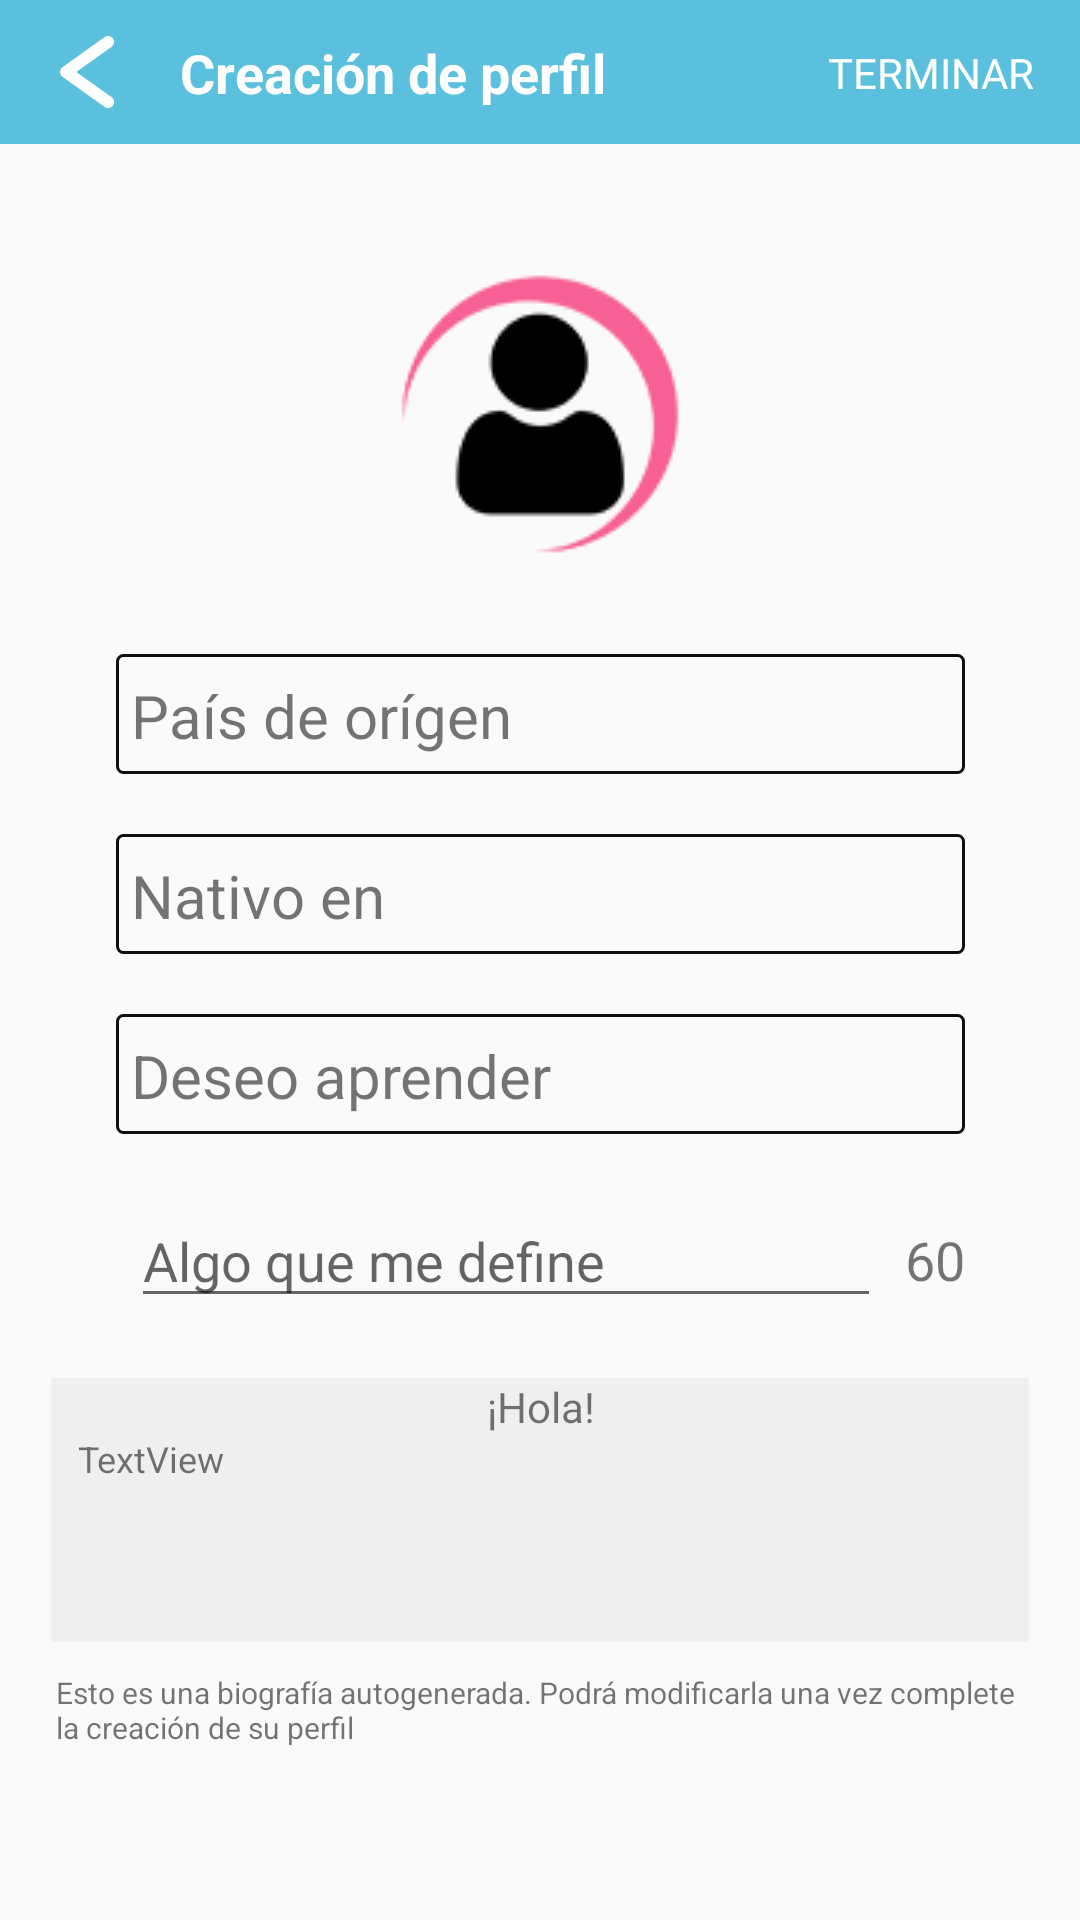

Locate icon controls on the screen. Image size 1080*1920, boxes as {"x1": x1, "y1": y1, "x2": x2, "y2": y2}.
perfil: {"x1": 401, "y1": 275, "x2": 679, "y2": 553}
